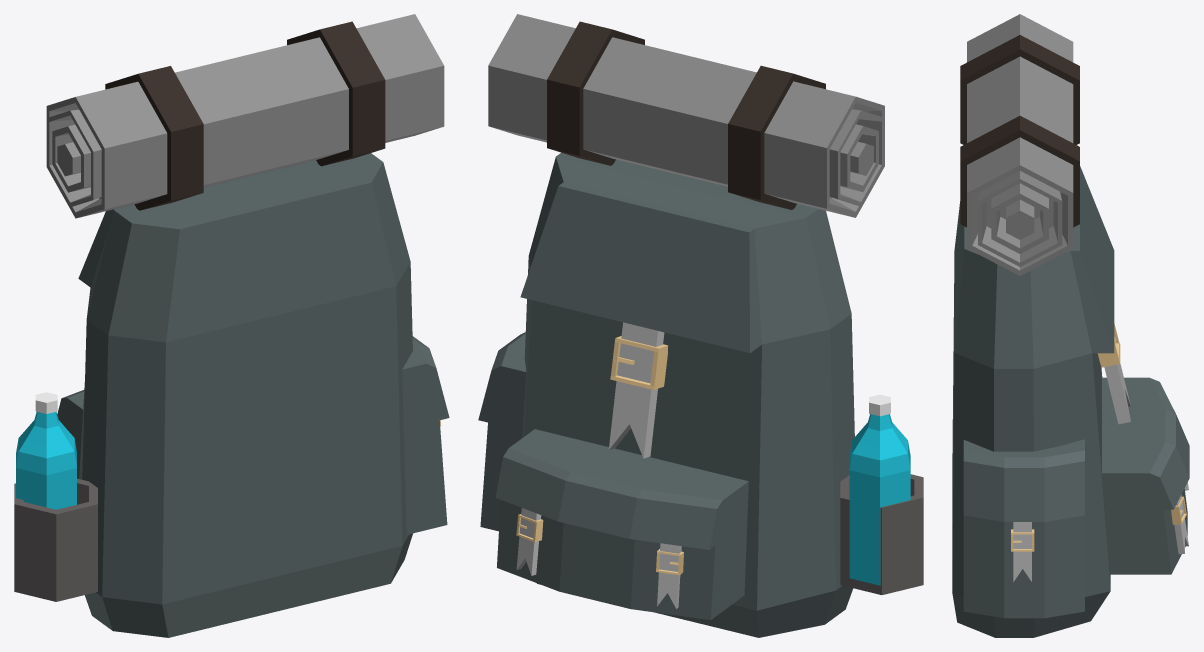
File: bag.fbx
3 views of the same model, side by side, from view 1: azimuth 30°, elevation 25°; view 2: azimuth 150°, elevation 25°; view 3: azimuth 270°, elevation 25° (orthographic). The views are drawn at different scales.
Visible parts, largest first — view 1: Bag; view 2: Bag; view 3: Bag.
Boxes of the visible parts, box(x1,y1,x2,y2) form: Bag: box(14, 14, 449, 637); Bag: box(478, 14, 923, 637); Bag: box(952, 14, 1189, 637).
Bounding box in the file's own units: 58.69 × 70.81 × 31.08.
